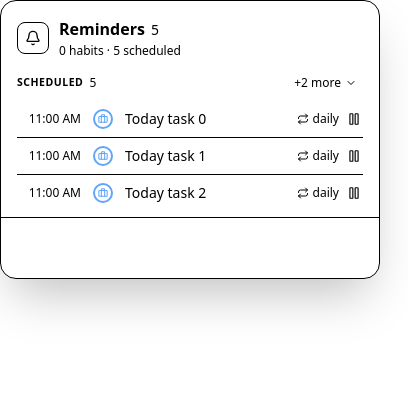
Test: ComposedReminderPanel › caps scheduled rows at 3 and reveals the rest on "+N more"
Expected: the text "Today task 0" is shown, 125,109 -> 206,128
Expected: the text "Today task 1" is shown, 125,146 -> 206,165
Click the button "+2 more" at point(326, 83), box 288,73 -> 363,93
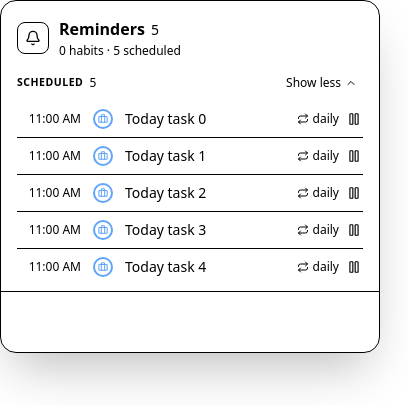
Expected: the text "Today task 3" is shown, 125,220 -> 206,239
Expected: the text "Today task 4" is shown, 125,257 -> 206,276
